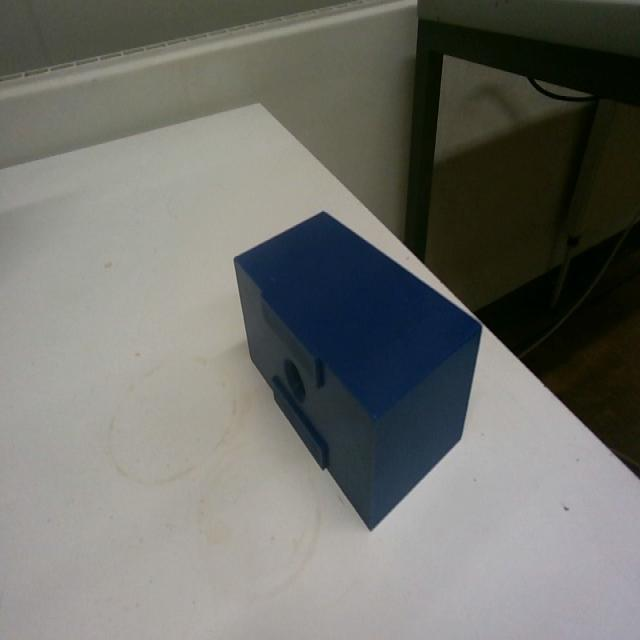Blue Cuboid: (231, 205, 484, 531)
